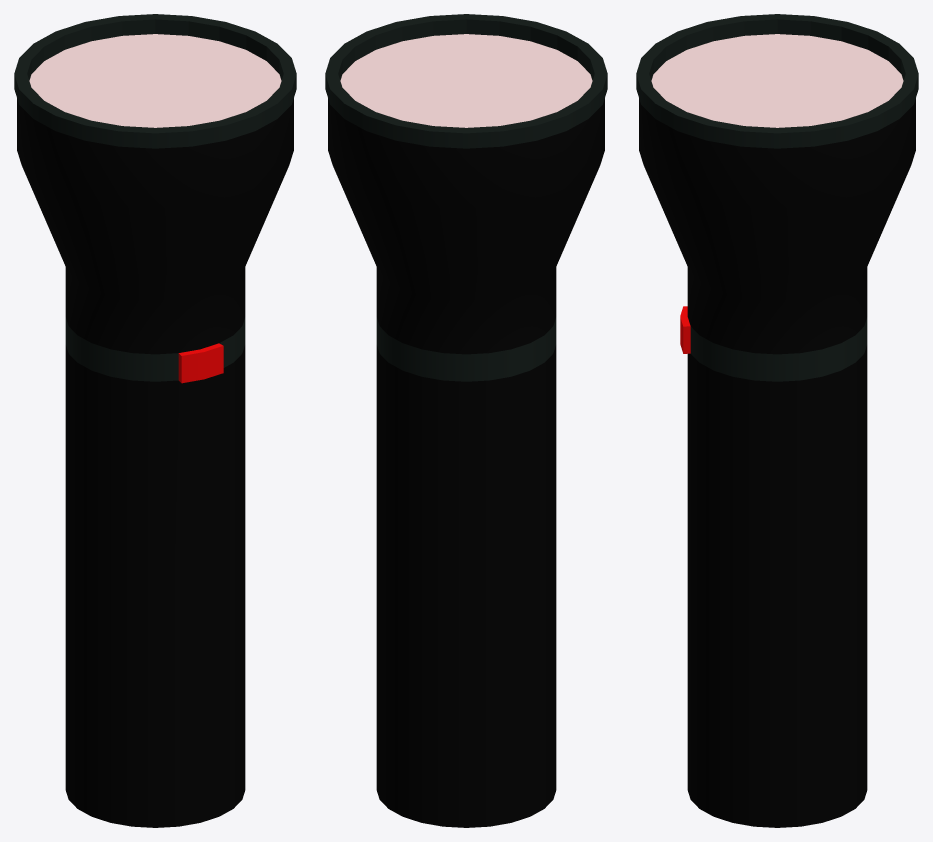
File: Torch.FBX
3 renders of one model, left to right at view 1: azimuth 30°, elevation 25°; view 2: azimuth 150°, elevation 25°; view 3: azimuth 270°, elevation 25°, orthographic.
Parts seen in each view (by area): view 1: Torch; view 2: Torch; view 3: Torch.
Part boxes in pixels (x1=…): Torch: x1=14, y1=14, x2=296, y2=827; Torch: x1=325, y1=14, x2=607, y2=827; Torch: x1=636, y1=14, x2=918, y2=827.
Size of the model in its own units: 52.22 by 146 by 52.22.
